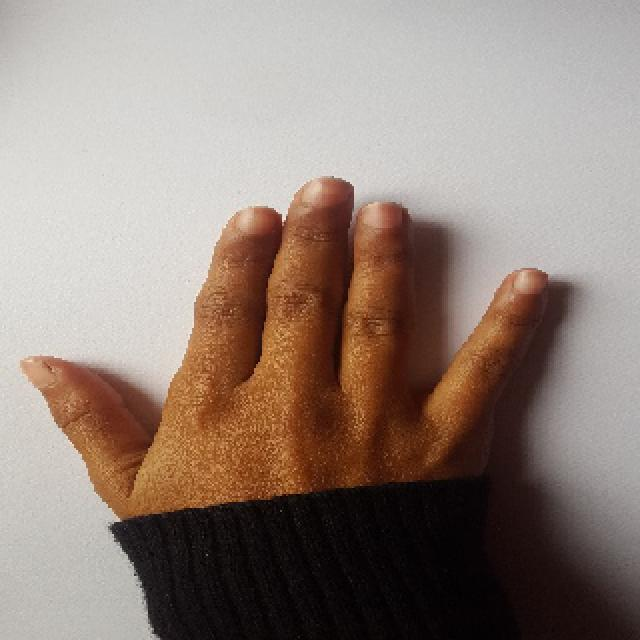Nail: (302, 178, 352, 207), (358, 202, 404, 229), (238, 208, 281, 236), (21, 358, 55, 389), (512, 269, 548, 295)
